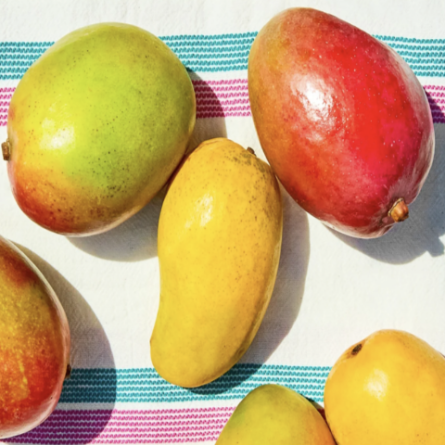mango: (233, 0, 445, 279), (0, 6, 205, 280), (140, 116, 295, 405)
